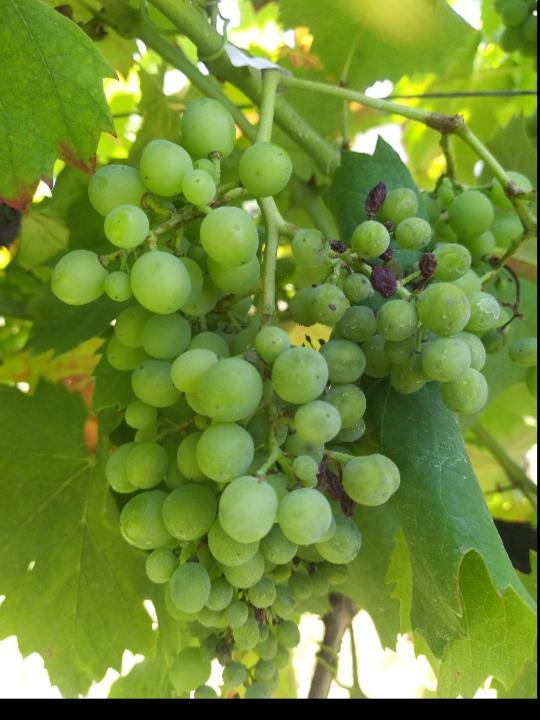grape: (47, 89, 510, 686)
